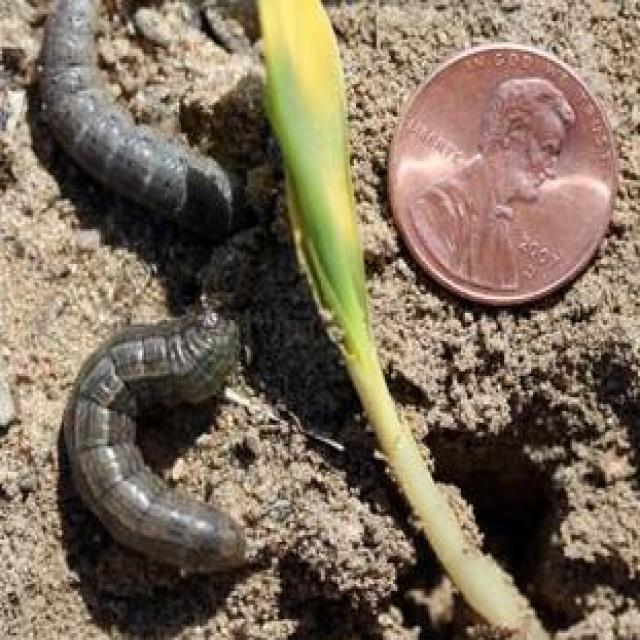armyworm: (44, 3, 276, 590)
